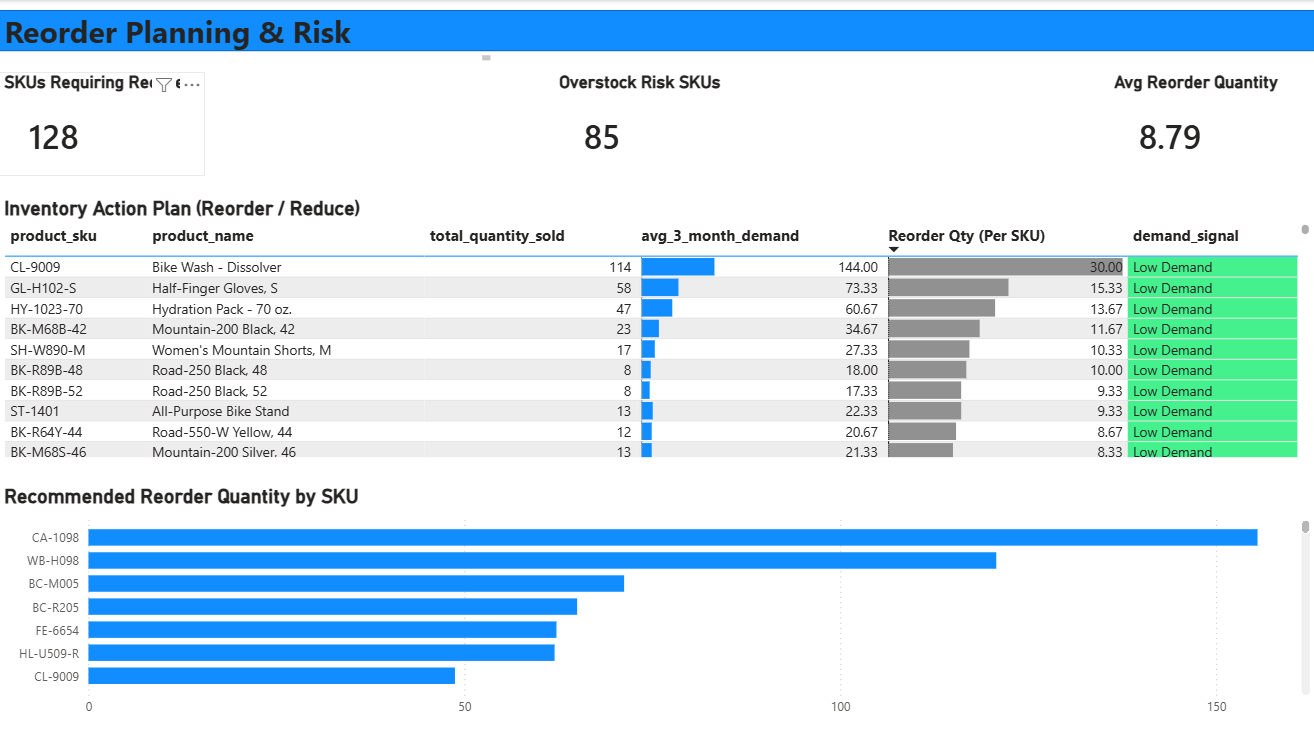

This screenshot's page, from the dashboard's own definition file:
{"tool":"powerbi","page":{"name":"Page 3","canvas":[1280,720],"ordinal":2},"visuals":[{"type":"cardVisual","title":"SKUs Requiring Reorder","fields":{"Data":["Count(Inventory Demand Signals.product_sku)"]},"box":[0,70,200,101],"z":0},{"type":"cardVisual","title":"Overstock Risk SKUs","fields":{"Data":["Count(Inventory Demand Signals.product_sku)"]},"box":[540,70,200,101],"z":1000},{"type":"cardVisual","title":"Avg Reorder Quantity","fields":{"Data":["Inventory Demand Signals.Avg Reorder Qty (SKU Level)"]},"box":[1080,70,200,101],"z":2000},{"type":"tableEx","title":"Inventory Action Plan (Reorder / Reduce)","fields":{"Values":["Inventory Demand Signals.product_sku","Inventory Demand Signals.product_name","Inventory Demand Signals.total_quantity_sold","Inventory Demand Signals.avg_3_month_demand","Inventory Demand Signals.Reorder Qty (Per SKU)","Inventory Demand Signals.demand_signal"]},"box":[0,191,1280,259],"z":3000},{"type":"barChart","title":"Recommended Reorder Quantity by SKU","fields":{"Category":["Inventory Demand Signals.product_sku"],"Y":["Inventory Demand Signals.Reorder Qty (High Demand Logic)"]},"box":[0,470.8,1280,234.4],"z":4000},{"type":"shape","box":[0,10,1280,40],"z":5000},{"type":"textbox","title":"Reorder Planning & Risk","box":[0,10,483,54],"z":6000}]}

Visuals, with their boxes in screenshot pixels (x1, y1, x2, y2), scaled from the page's 1280x720 canvas onto the 1314x740 screenshot:
"SKUs Requiring Reorder" cardVisual: [left=0, top=72, right=205, bottom=176]
"Overstock Risk SKUs" cardVisual: [left=554, top=72, right=760, bottom=176]
"Avg Reorder Quantity" cardVisual: [left=1109, top=72, right=1313, bottom=176]
"Inventory Action Plan (Reorder / Reduce)" tableEx: [left=0, top=196, right=1313, bottom=462]
"Recommended Reorder Quantity by SKU" barChart: [left=0, top=484, right=1313, bottom=725]
shape: [left=0, top=10, right=1313, bottom=51]
"Reorder Planning & Risk" textbox: [left=0, top=10, right=496, bottom=66]
